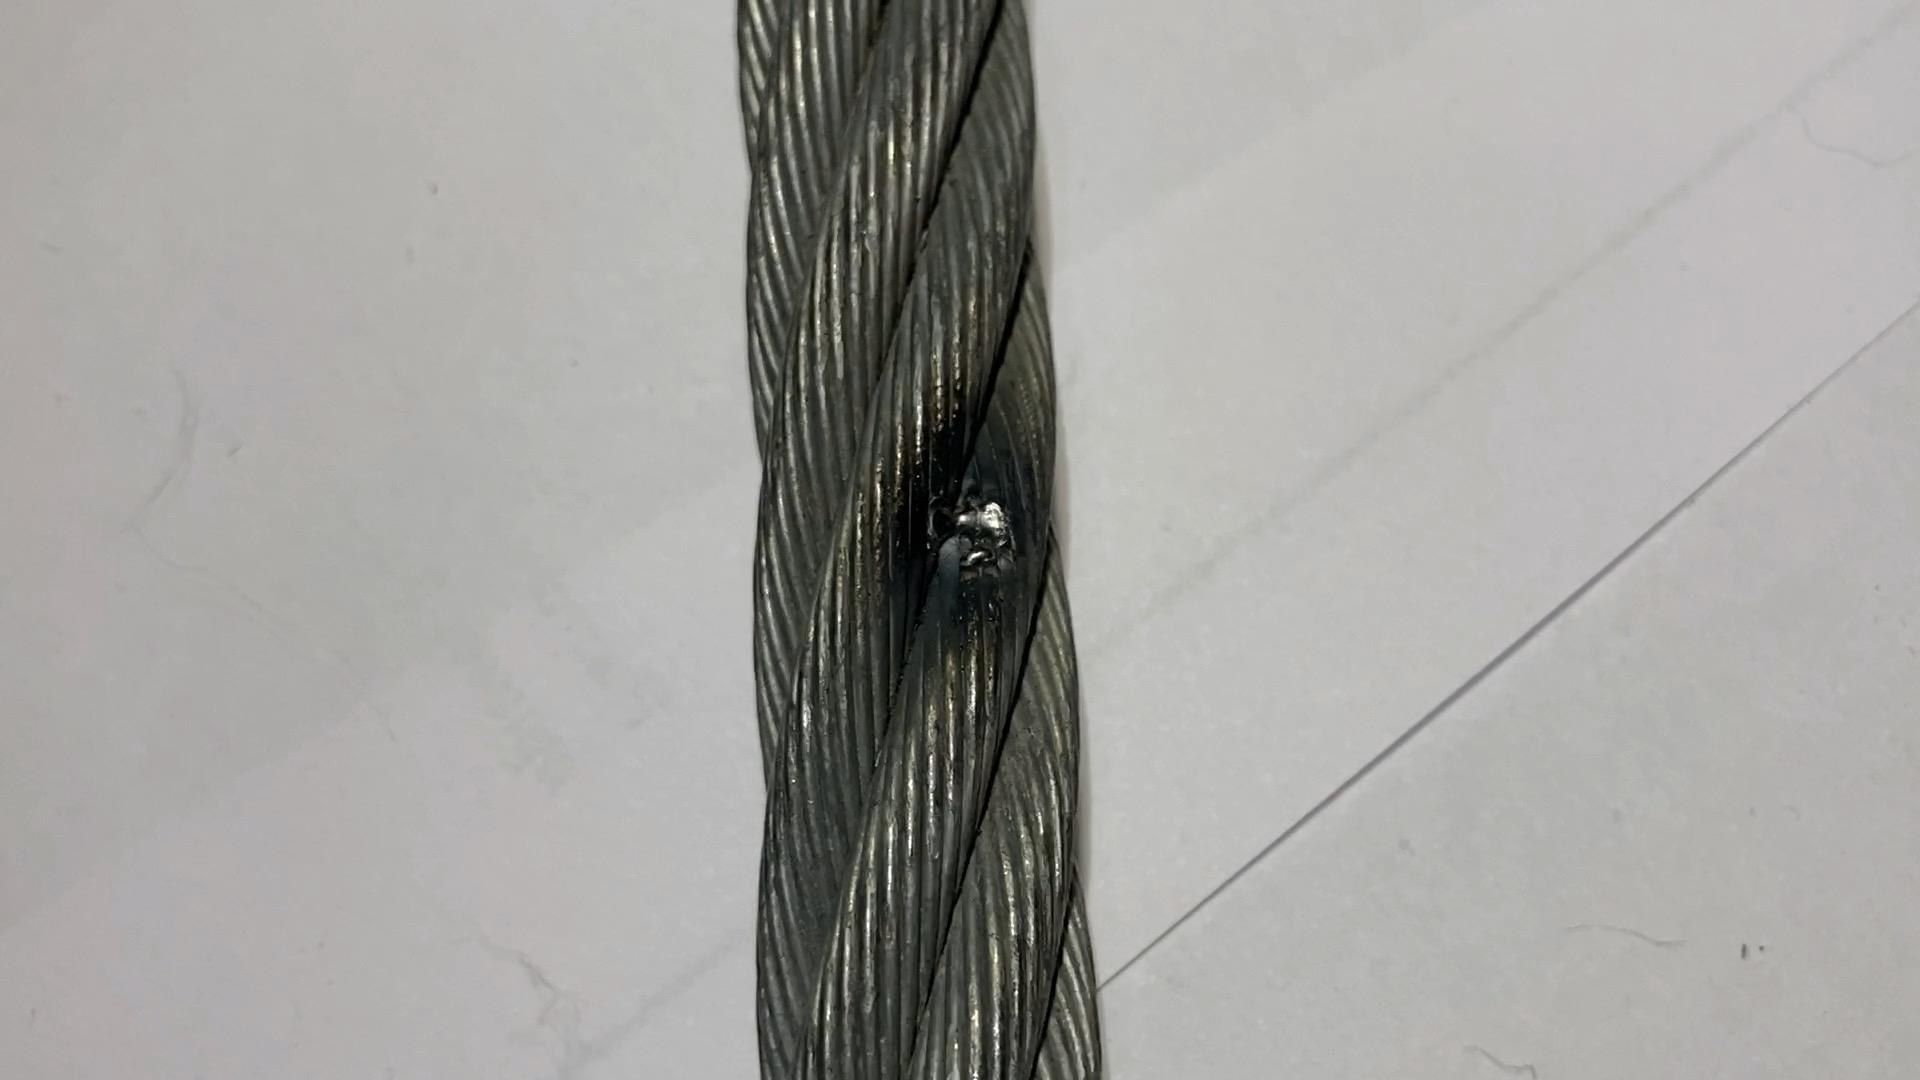thunderbolt: (895, 483, 1068, 620)
